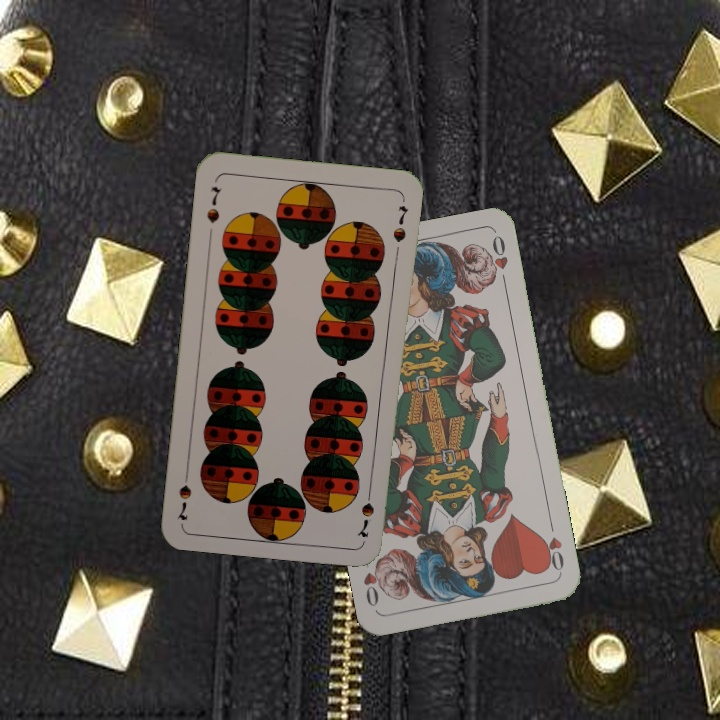HO: (538, 517, 567, 575)
S7: (353, 483, 377, 540), (202, 182, 224, 226)
